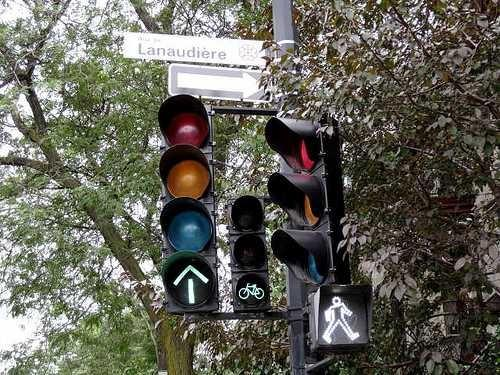green: (315, 284, 373, 349), (160, 254, 215, 309), (235, 271, 273, 311)
